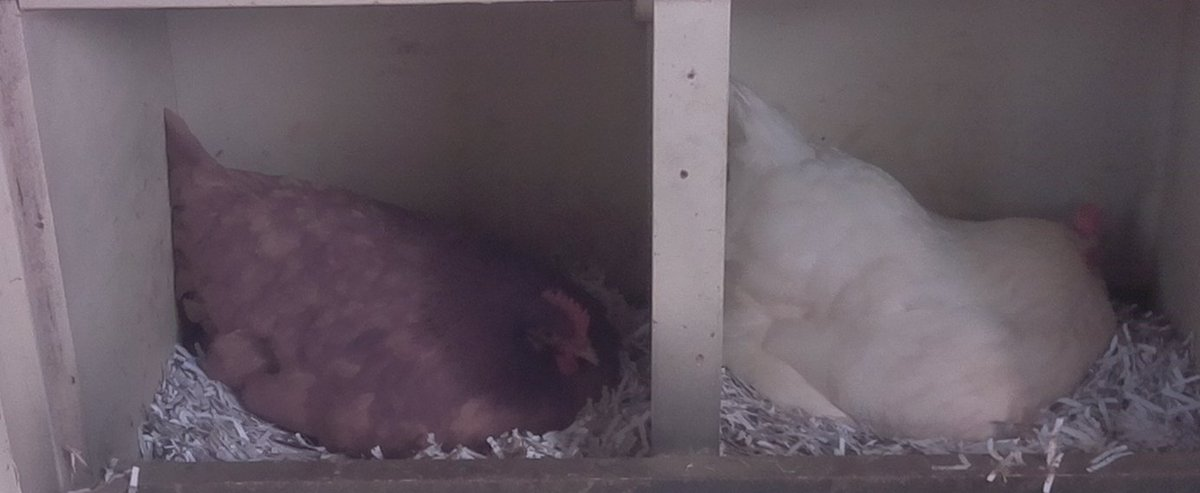hen: (157, 103, 628, 462), (730, 70, 1131, 451)
